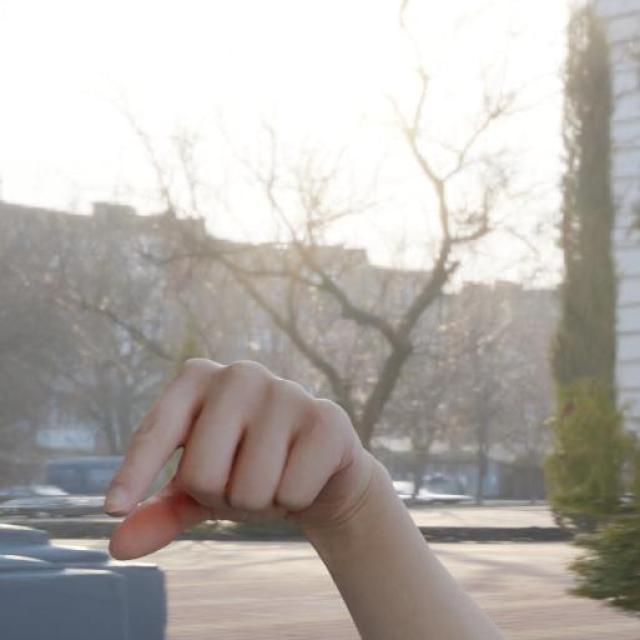Q: (98, 351, 395, 569)
